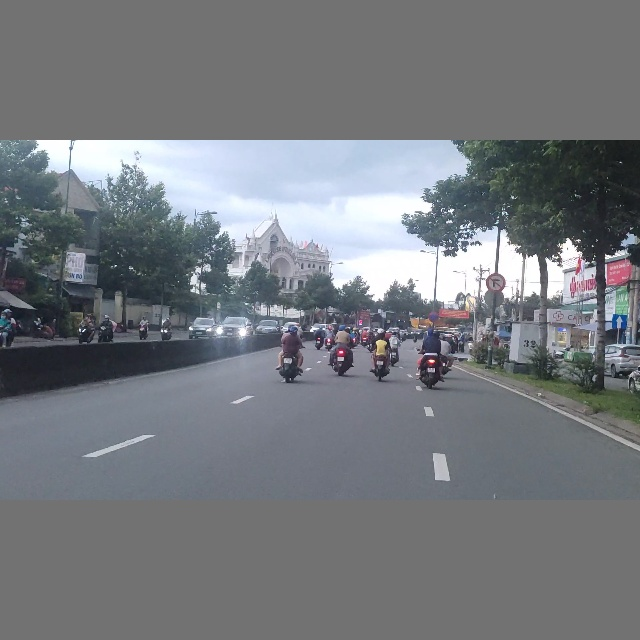P.123b: (486, 273, 506, 292)
P.130: (429, 312, 439, 323)
